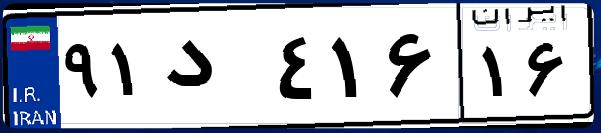1: (330, 28, 385, 110), (475, 38, 525, 113), (110, 28, 158, 98)
4: (270, 28, 330, 110)
6: (385, 28, 445, 110), (525, 38, 570, 115)
9: (57, 26, 110, 100)
د: (158, 20, 270, 120)
